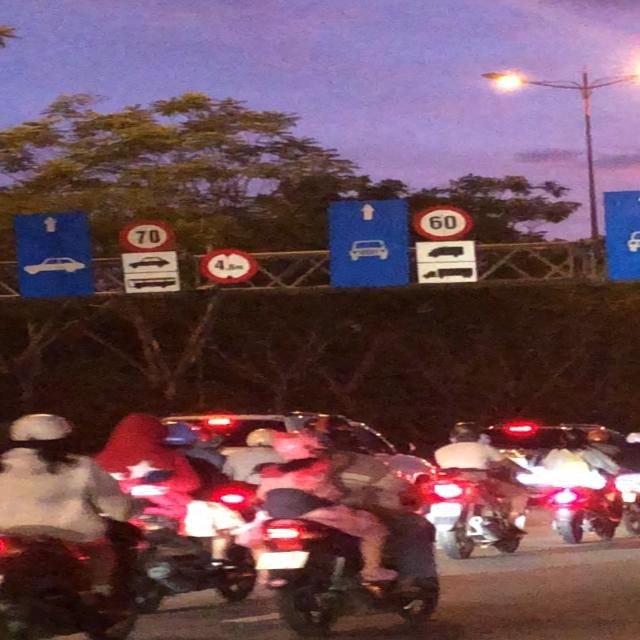Bien bao han che chieu cao: (199, 243, 260, 286)
Bien bao toc do toi da cho phep: (404, 202, 478, 242), (118, 217, 183, 257)
